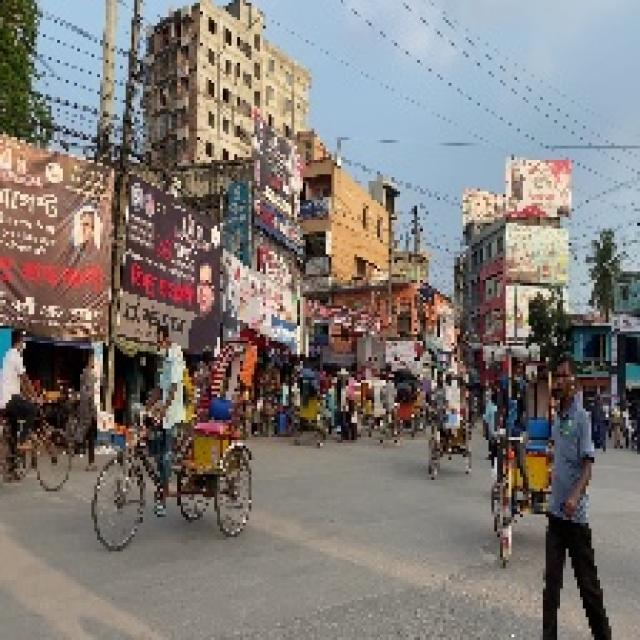rickshaw: (92, 329, 255, 546), (488, 351, 551, 562), (428, 370, 466, 487), (294, 359, 328, 448), (394, 375, 420, 439)
